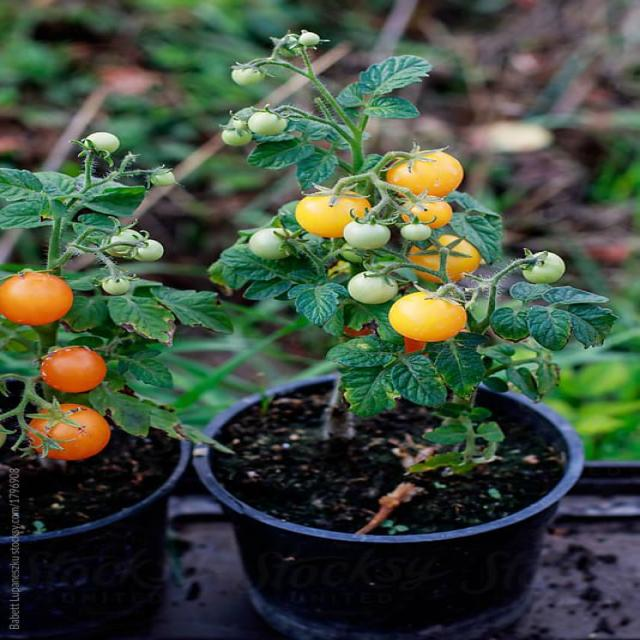level 2: (348, 269, 401, 305), (248, 228, 298, 261), (342, 220, 392, 248), (520, 252, 564, 283), (103, 228, 146, 258), (248, 110, 290, 137), (81, 130, 122, 154), (217, 123, 251, 147), (230, 64, 267, 86), (134, 241, 166, 263), (276, 34, 307, 56), (101, 276, 132, 296), (148, 170, 178, 187), (404, 224, 433, 240), (298, 31, 324, 46)
level 4: (386, 152, 470, 200), (383, 294, 470, 340), (294, 191, 374, 239), (404, 237, 478, 282), (399, 196, 454, 228)
level 5: (29, 404, 108, 463), (0, 271, 75, 326), (38, 344, 110, 394)
